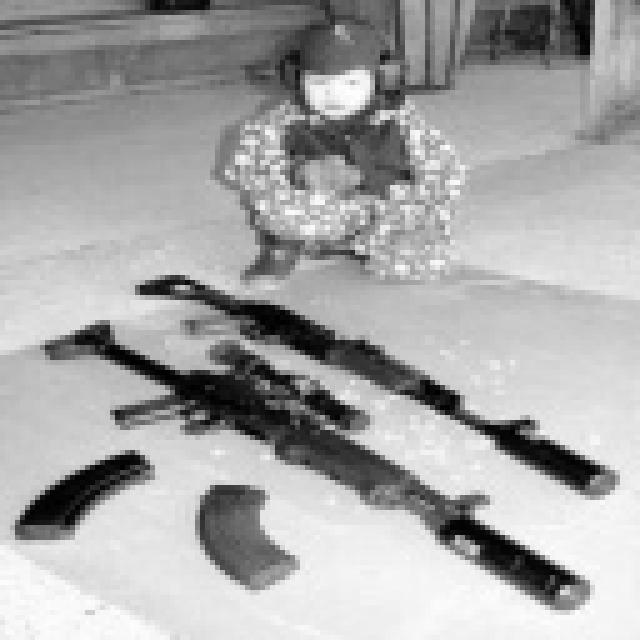Rifle: (0, 260, 595, 640), (125, 250, 640, 525)
